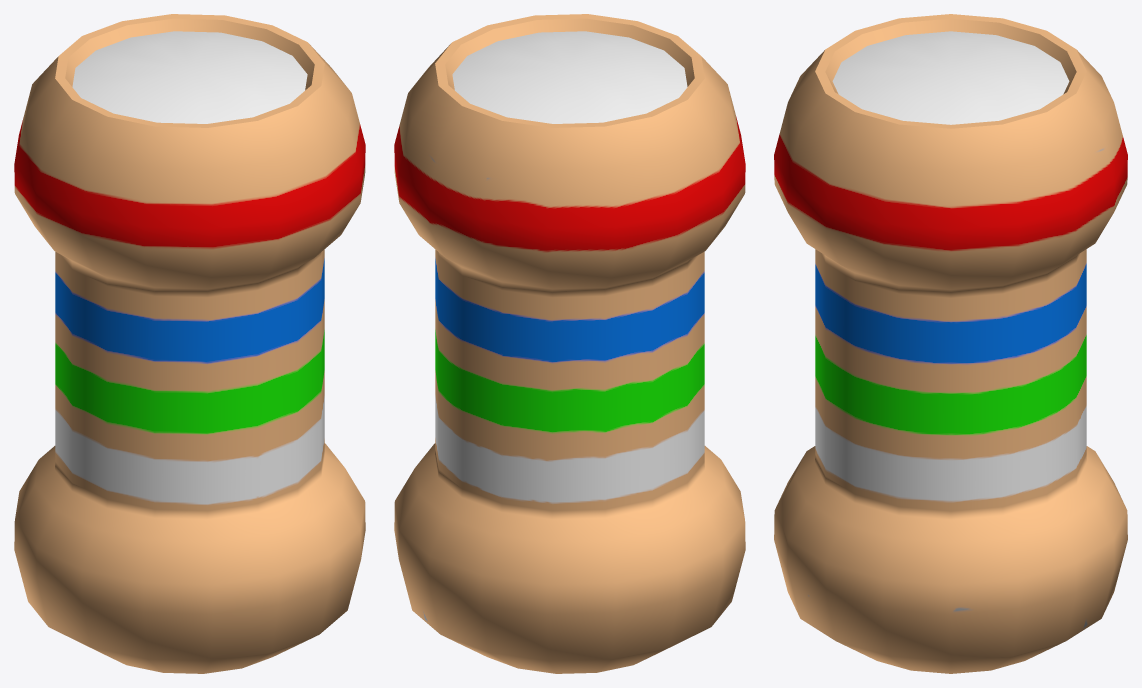
File: Resistor.fbx
3 renders of one model, left to right at view 1: azimuth 30°, elevation 25°; view 2: azimuth 150°, elevation 25°; view 3: azimuth 270°, elevation 25°, orthographic.
Visible parts, largest first — view 1: Resistor; view 2: Resistor; view 3: Resistor.
Part boxes in pixels (x1,y1,x2,y2): Resistor: (14,14,365,673); Resistor: (394,14,745,673); Resistor: (774,14,1127,673).
Bounding box in the file's own units: 0.0674 × 0.118 × 0.0674.
Materials: 1 (1 with a texture image).
